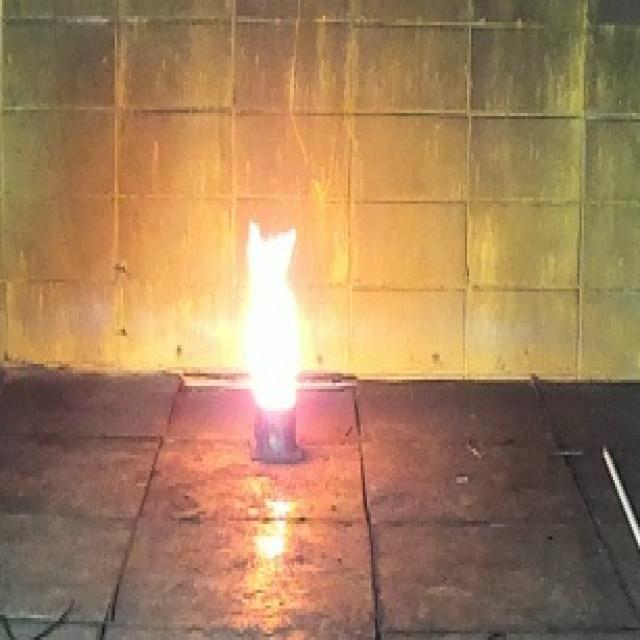Fire: (246, 216, 298, 411)
